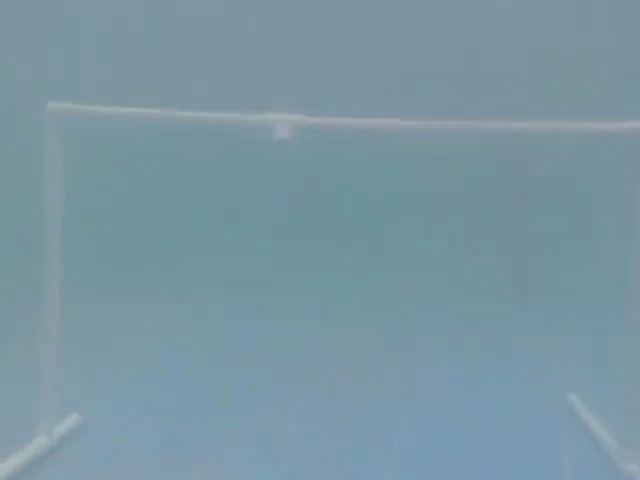gate: (14, 89, 638, 477)
